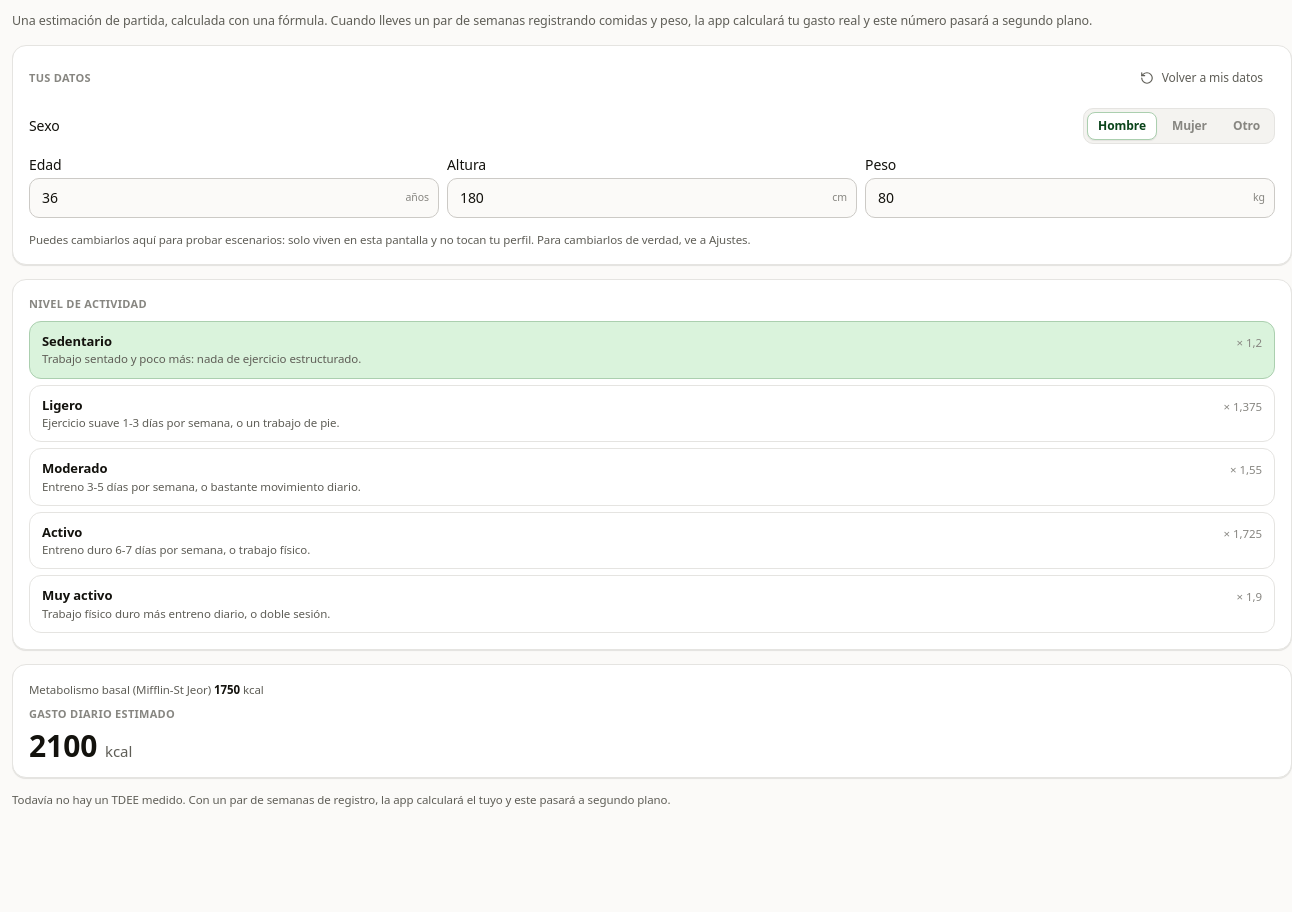
Test: TdeeCalculator › restores the seeded data after an edit
Replace the text in the field labelled "Peso" with "90": (1070, 198) [865, 178, 1275, 218]
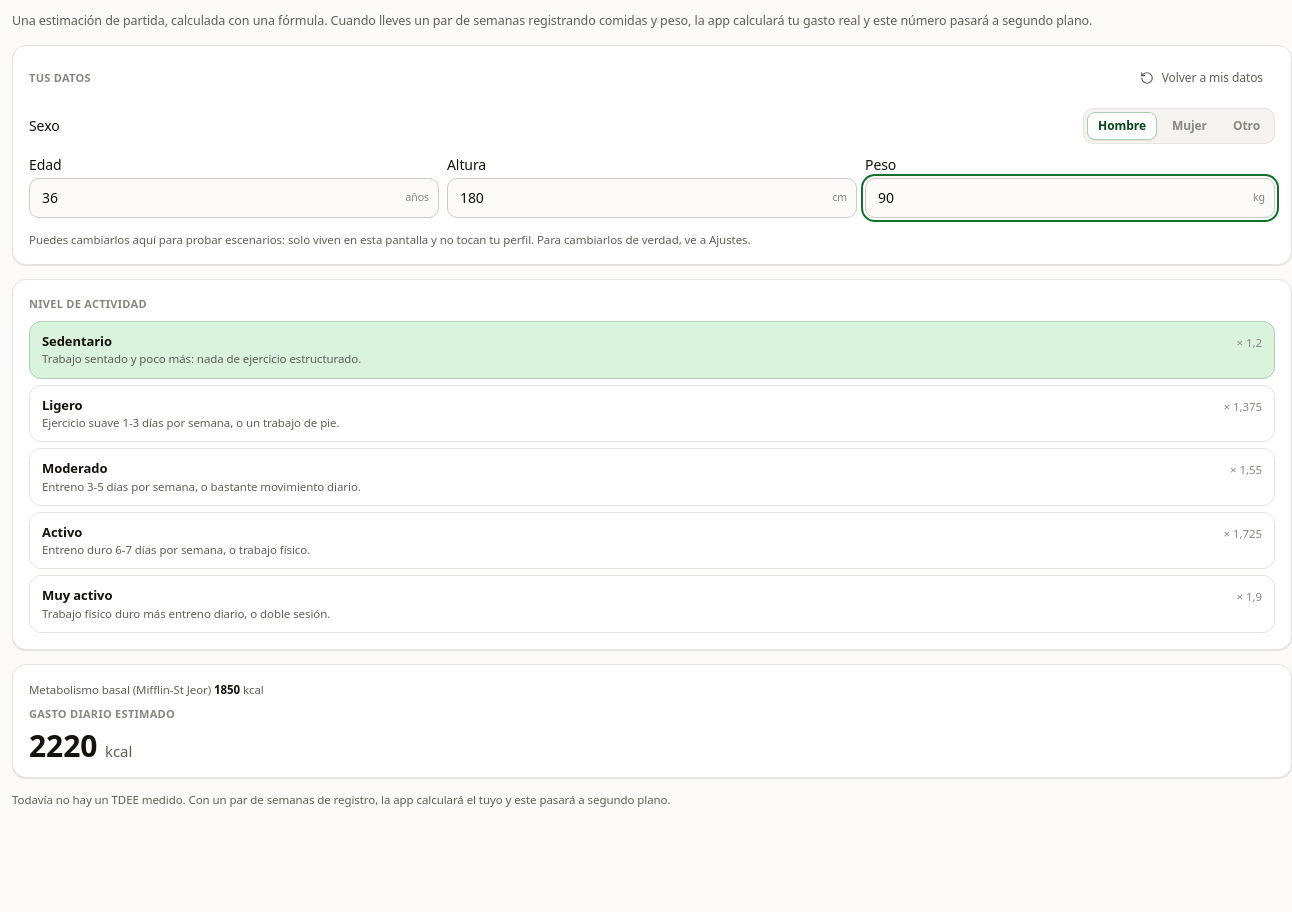
Now the element with test id "tdee-result" shows "2220", box [29, 725, 97, 766]
Click the button with test id "tdee-reset": (1201, 78) [1128, 62, 1275, 94]
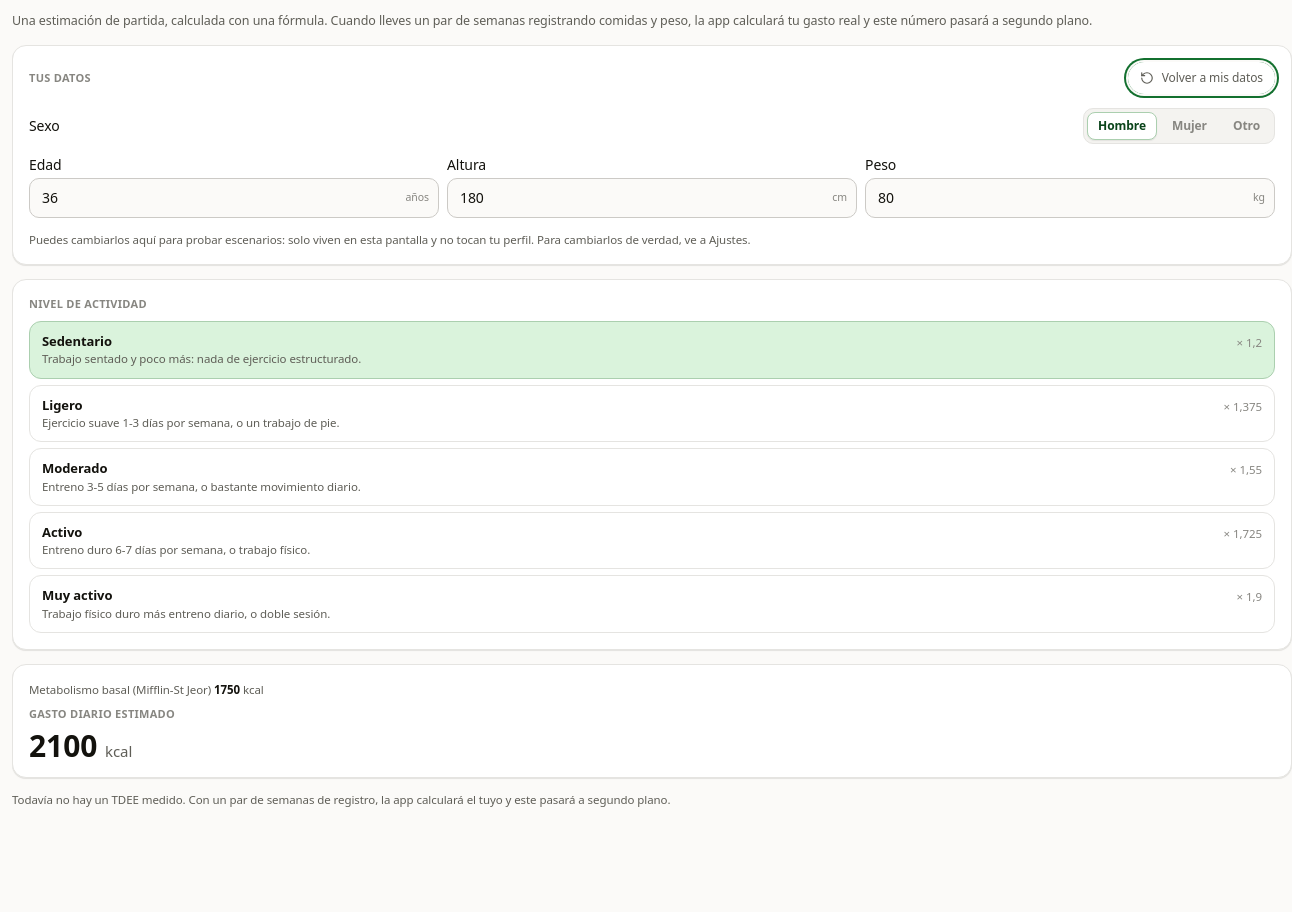
Now the element with test id "tdee-result" shows "2100", box [29, 725, 97, 766]
